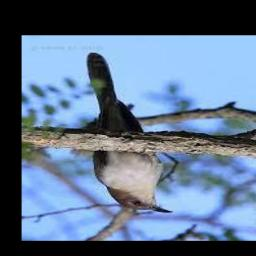Cuckoo: (85, 53, 174, 213)
